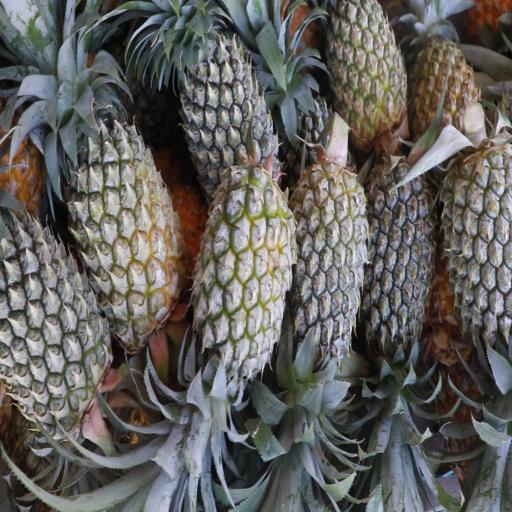------------------------------: (73, 105, 181, 329), (196, 169, 292, 375), (330, 0, 405, 142), (412, 21, 482, 162)
